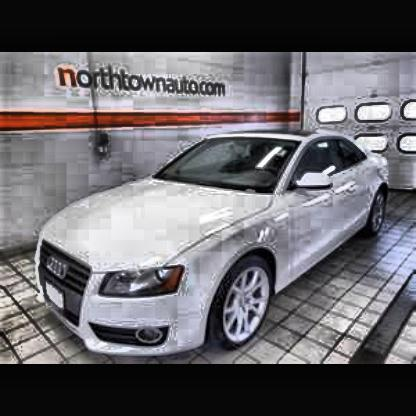Audi A5 Coupe 2012: (30, 129, 393, 361)
